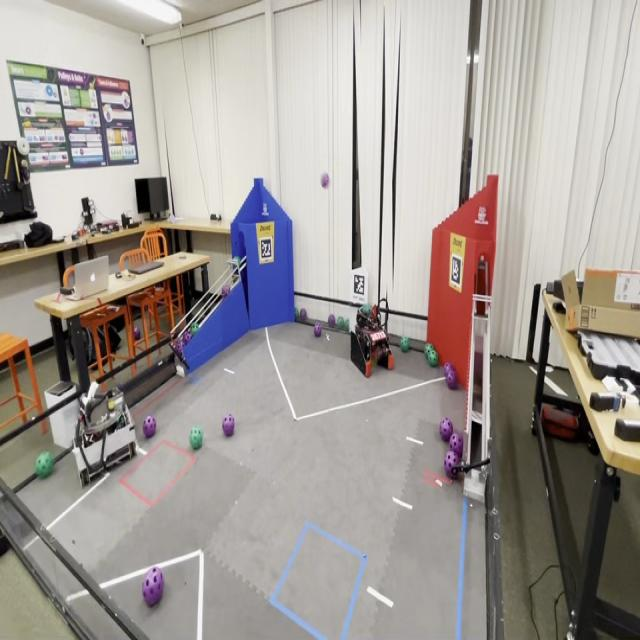artifact_green: (35, 451, 55, 479), (190, 426, 203, 450), (427, 349, 438, 367), (232, 256, 241, 276), (400, 336, 409, 353), (424, 344, 435, 357), (221, 284, 231, 298), (327, 314, 336, 328), (190, 323, 199, 336), (361, 304, 371, 315), (134, 326, 141, 340), (300, 309, 307, 322), (337, 317, 344, 329), (233, 256, 241, 266), (427, 349, 437, 356), (294, 307, 299, 319), (424, 345, 429, 357), (344, 319, 349, 330), (426, 343, 434, 349), (426, 343, 434, 348), (430, 345, 436, 350)
artifact_purple: (143, 567, 163, 606), (444, 451, 459, 478), (449, 432, 463, 458), (440, 418, 453, 442), (143, 415, 156, 438), (445, 367, 458, 390), (222, 414, 234, 437), (182, 330, 191, 347), (174, 338, 183, 354), (321, 172, 329, 188), (222, 284, 230, 298), (444, 362, 453, 373), (314, 323, 321, 337), (134, 326, 141, 340), (328, 315, 335, 328), (300, 309, 307, 321)
